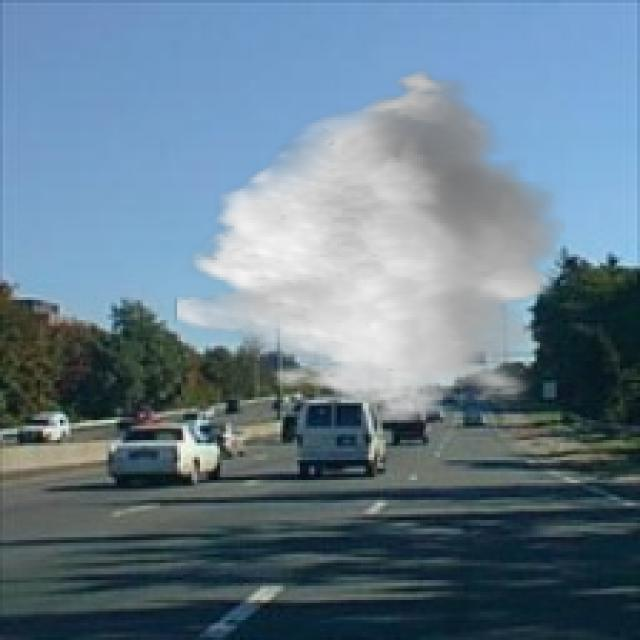Smoke: (174, 63, 566, 423)
